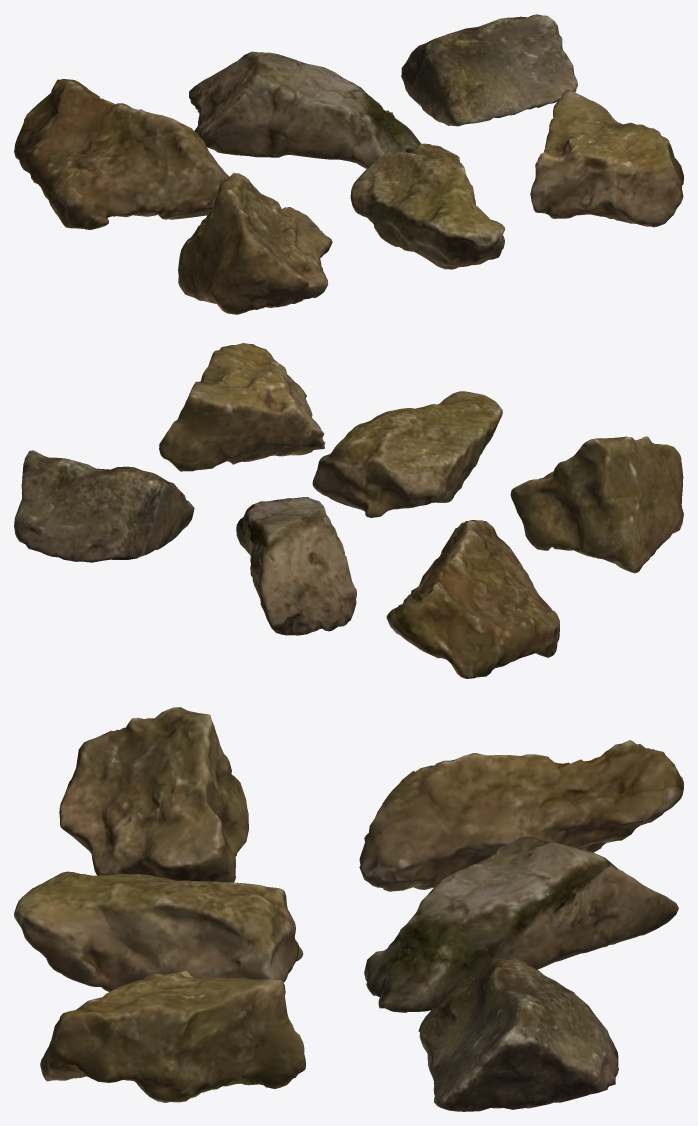
File: rock_moss_set_01.glb
The picture shows the model from 3 angles, top to bottom: view 1: azimuth 30°, elevation 25°; view 2: azimuth 150°, elevation 25°; view 3: azimuth 270°, elevation 25°; orthographic projection. The views are drawn at different scales.
Parts seen in each view (by area): view 1: rock_moss_set_01_rock01, rock_moss_set_01_rock02, rock_moss_set_01_rock06, rock_moss_set_01_rock04, rock_moss_set_01_rock03, rock_moss_set_01_rock05; view 2: rock_moss_set_01_rock04, rock_moss_set_01_rock01, rock_moss_set_01_rock05, rock_moss_set_01_rock03, rock_moss_set_01_rock06, rock_moss_set_01_rock02; view 3: rock_moss_set_01_rock01, rock_moss_set_01_rock02, rock_moss_set_01_rock05, rock_moss_set_01_rock06, rock_moss_set_01_rock04, rock_moss_set_01_rock03.
Part boxes in pixels (x1=…): rock_moss_set_01_rock01: x1=14, y1=79, x2=229, y2=229; rock_moss_set_01_rock02: x1=189, y1=51, x2=421, y2=168; rock_moss_set_01_rock06: x1=530, y1=89, x2=683, y2=227; rock_moss_set_01_rock04: x1=178, y1=172, x2=332, y2=314; rock_moss_set_01_rock03: x1=401, y1=14, x2=577, y2=126; rock_moss_set_01_rock05: x1=350, y1=143, x2=504, y2=269; rock_moss_set_01_rock04: x1=510, y1=436, x2=683, y2=573; rock_moss_set_01_rock01: x1=386, y1=520, x2=559, y2=678; rock_moss_set_01_rock05: x1=312, y1=391, x2=502, y2=517; rock_moss_set_01_rock03: x1=14, y1=450, x2=194, y2=562; rock_moss_set_01_rock06: x1=159, y1=343, x2=325, y2=471; rock_moss_set_01_rock02: x1=236, y1=497, x2=356, y2=635; rock_moss_set_01_rock01: x1=359, y1=740, x2=683, y2=891; rock_moss_set_01_rock02: x1=364, y1=836, x2=678, y2=1012; rock_moss_set_01_rock05: x1=14, y1=871, x2=303, y2=991; rock_moss_set_01_rock06: x1=40, y1=970, x2=305, y2=1102; rock_moss_set_01_rock04: x1=59, y1=707, x2=248, y2=882; rock_moss_set_01_rock03: x1=418, y1=956, x2=618, y2=1111.
Size of the model in its own units: 8 by 1.77 by 6.94.
1 material, 1 textured.
